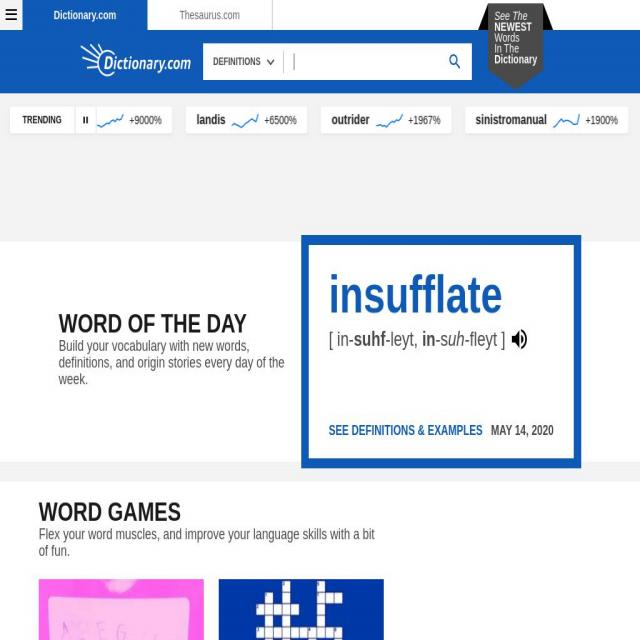audio: (506, 322, 532, 355)
navigation-blocks: (19, 471, 402, 640)
navigation-links: (28, 4, 266, 28)
options: (0, 0, 21, 35)
search: (185, 36, 493, 92)
